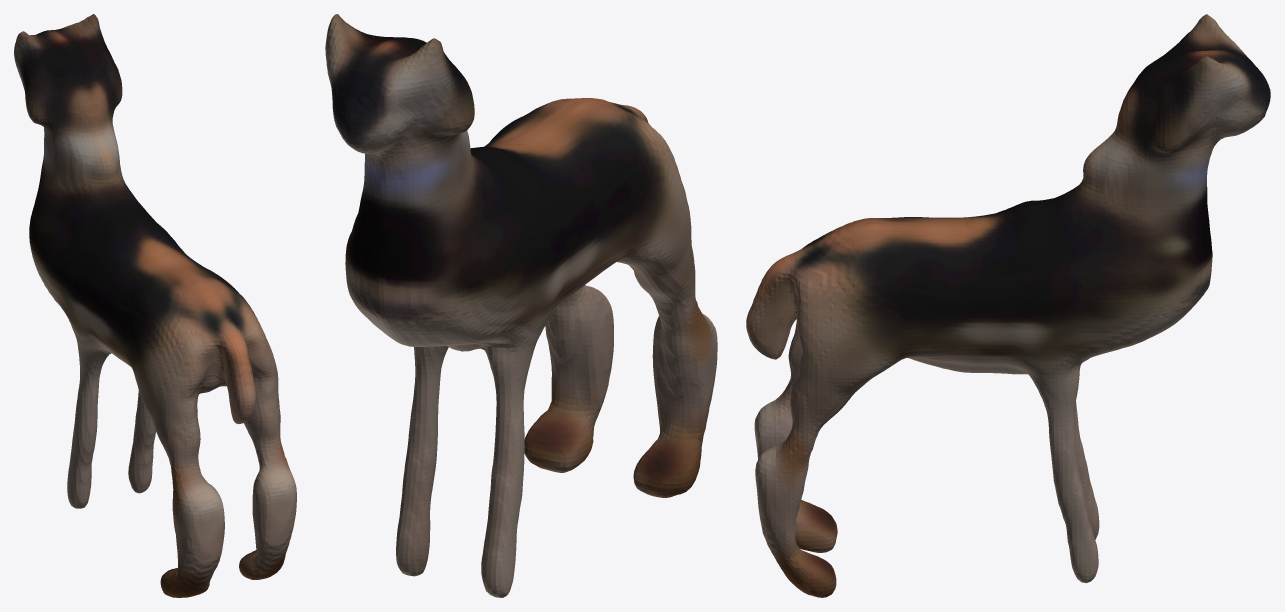
Rendered from dog_ahead.glb.
3 views of the same model, side by side, from view 1: azimuth 30°, elevation 25°; view 2: azimuth 150°, elevation 25°; view 3: azimuth 270°, elevation 25° (orthographic). The views are drawn at different scales.
Visible parts, largest first — view 1: tmp572vu32b.ply; view 2: tmp572vu32b.ply; view 3: tmp572vu32b.ply.
Boxes of the visible parts, <box> form: tmp572vu32b.ply: <box>14,14,296,597</box>; tmp572vu32b.ply: <box>325,14,717,597</box>; tmp572vu32b.ply: <box>746,14,1270,597</box>.
Size of the model in its own units: 0.5665 by 1.97 by 1.76.
